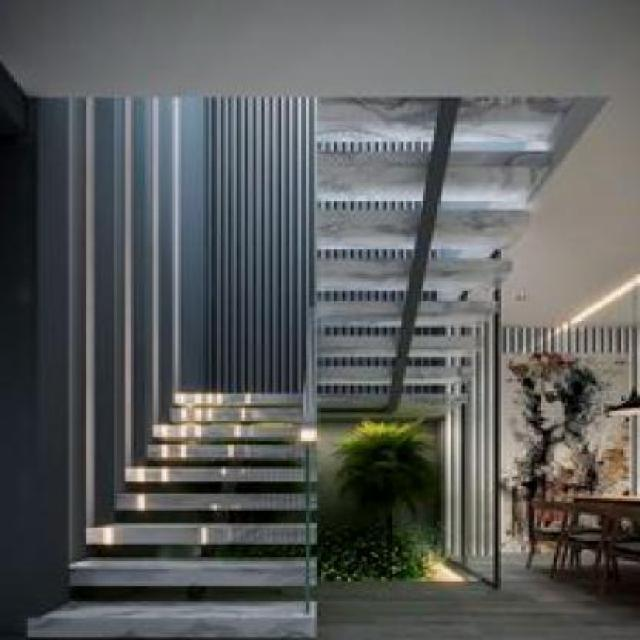stair: (11, 95, 610, 638)
